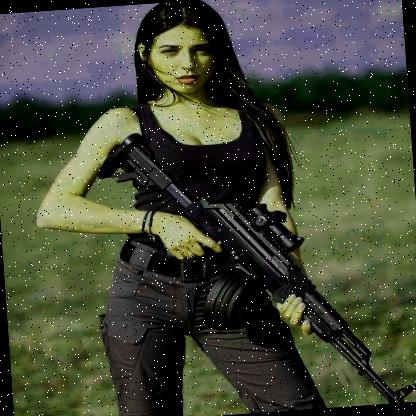rifle: (94, 109, 416, 416)
